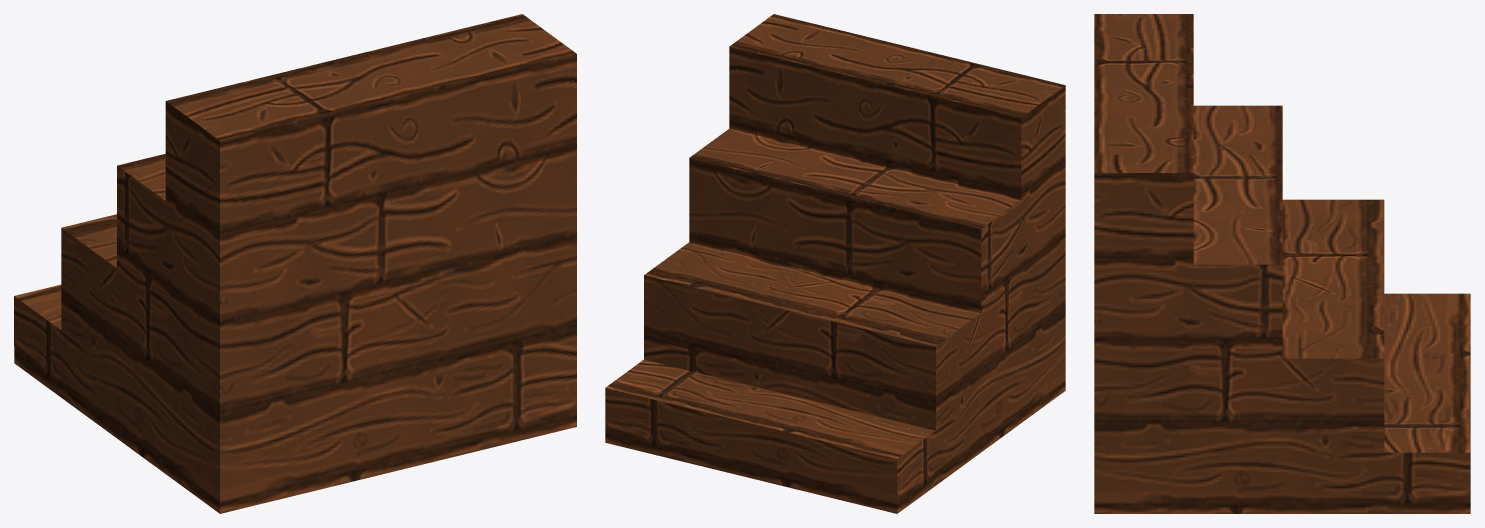
Rendered from POL0510018.fbx.
The picture shows the model from 3 angles, left to right: view 1: azimuth 30°, elevation 25°; view 2: azimuth 150°, elevation 25°; view 3: azimuth 270°, elevation 25°; orthographic projection. The views are drawn at different scales.
Parts seen in each view (by area): view 1: smPOL0510018; view 2: smPOL0510018; view 3: smPOL0510018.
Part boxes in pixels (bbox=[...]): smPOL0510018: bbox=[14, 14, 576, 513]; smPOL0510018: bbox=[605, 14, 1065, 513]; smPOL0510018: bbox=[1094, 14, 1470, 513].
Bounding box in the file's own units: 161 × 161 × 161.
Materials: 1 (1 with a texture image).
